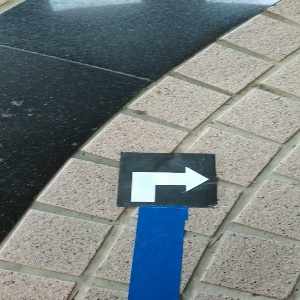right: (118, 150, 217, 207)
